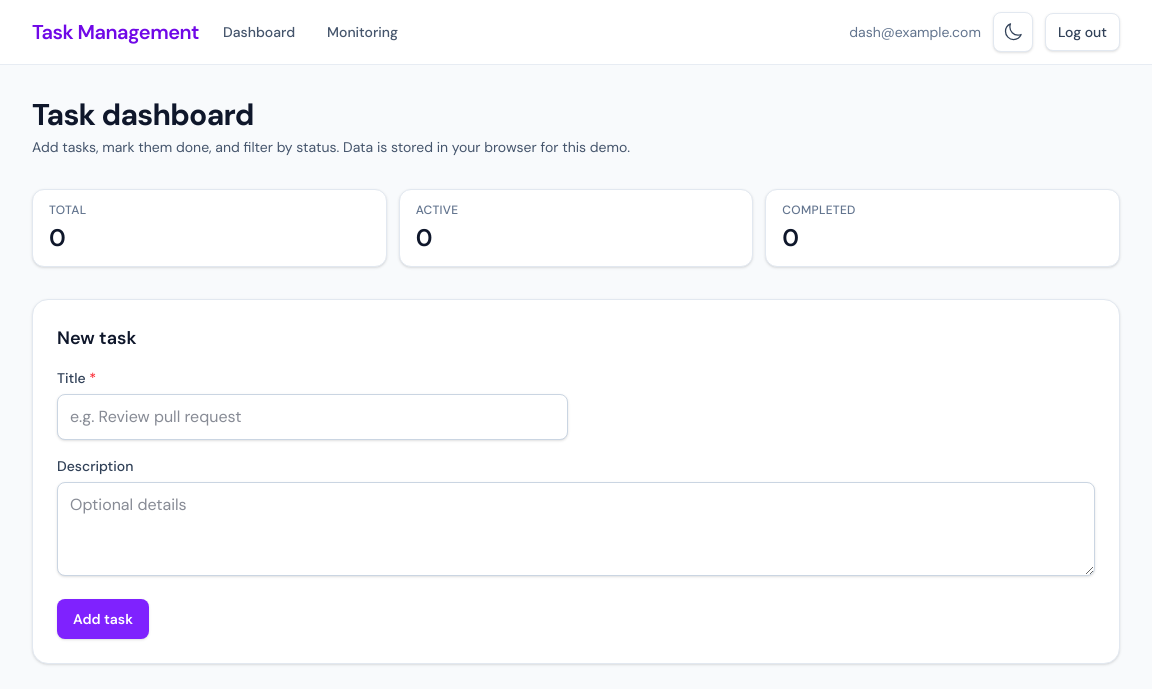
Test: DashboardPage (local storage) › toggles completion and uses filter chips
Type "Open task" into the field with test id "task-title-input" at point(312, 417), box [57,394,568,440]
Click the button with test id "task-add-submit" at point(103, 619), box [57,599,149,639]
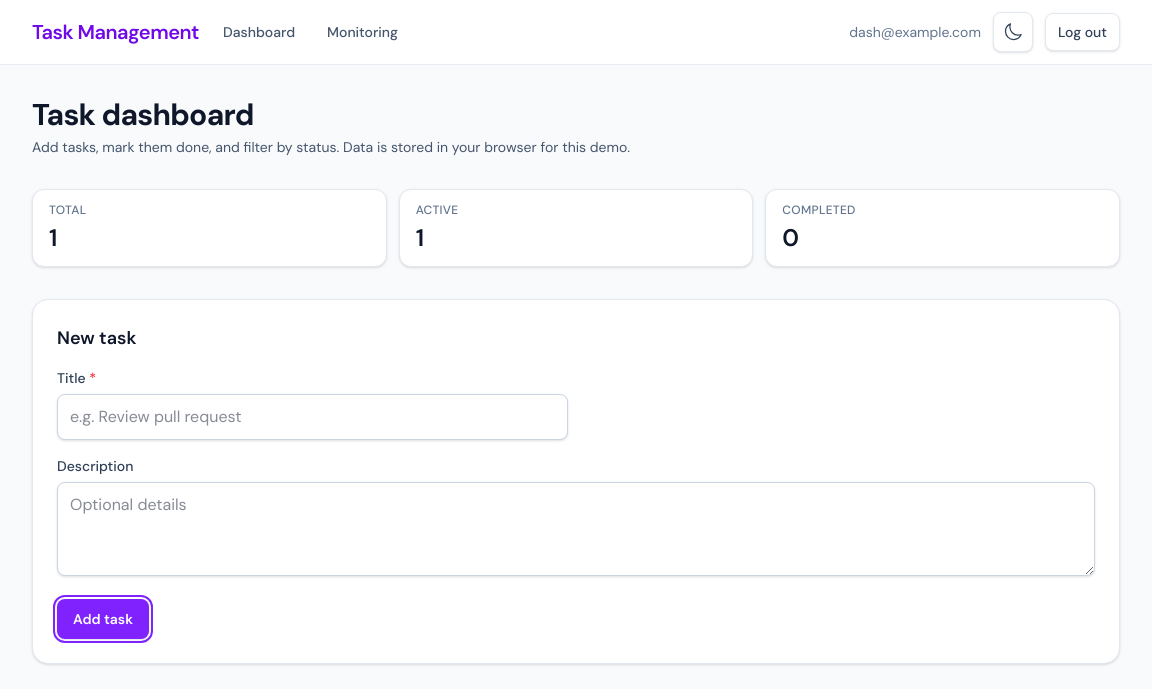
Type "Done task" into the field with test id "task-title-input" at point(312, 417), box [57,394,568,440]
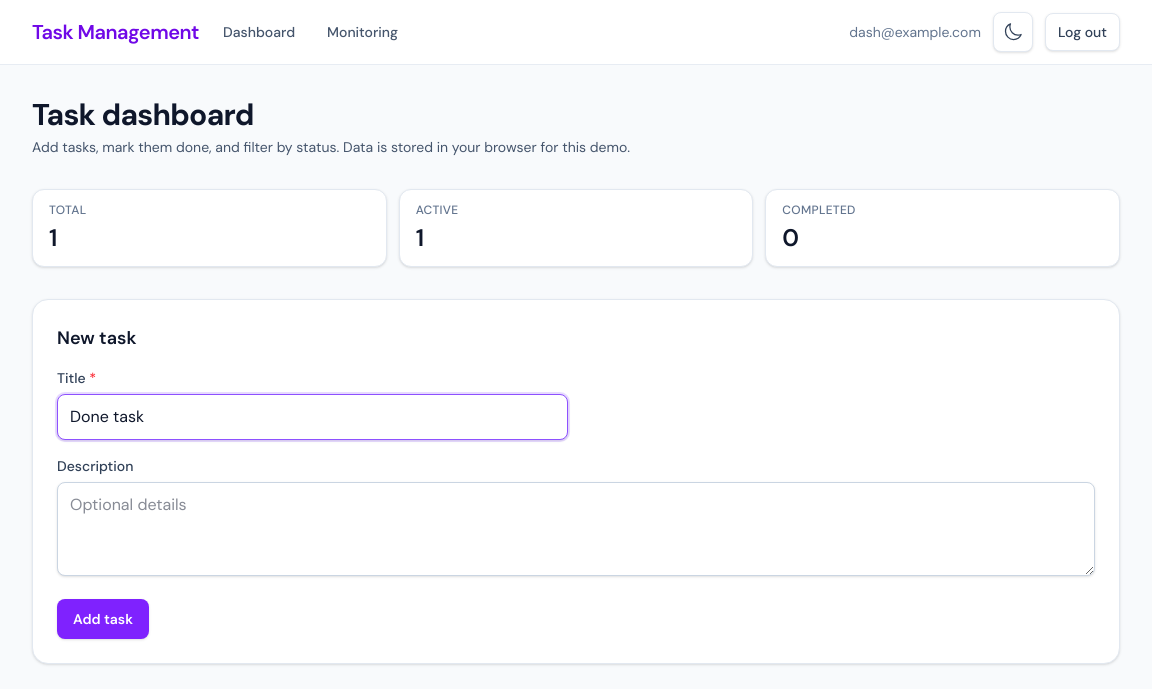
Click the button with test id "task-add-submit" at point(103, 619), box [57,599,149,639]
(page scrolled)
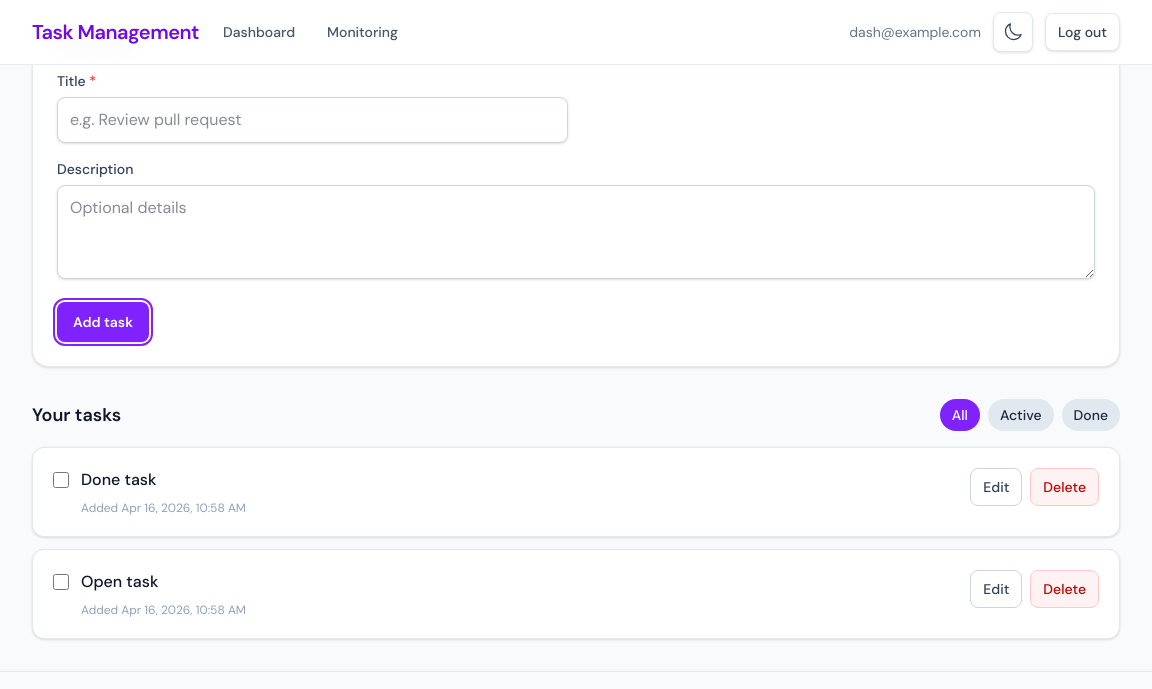
Click the checkbox with test id "task-complete-checkbox" next to "Done task" at point(61, 480), box [53,472,69,488]
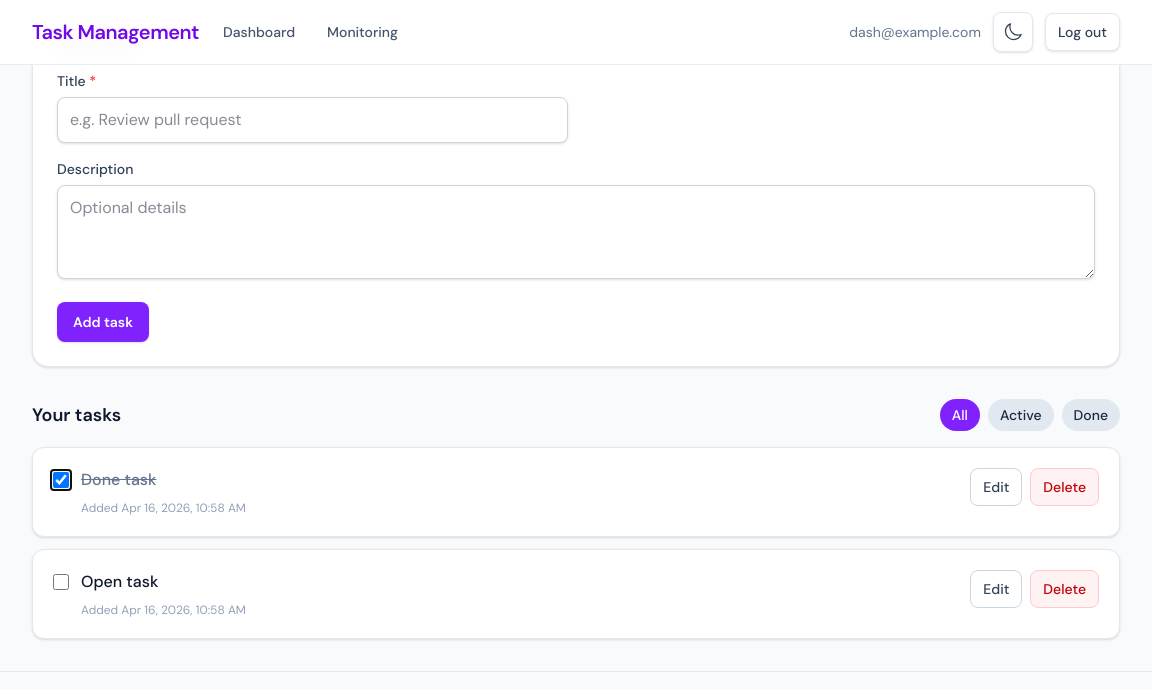
Click the button with test id "filter-active" at point(1021, 415), box [988,399,1054,431]
(page scrolled)
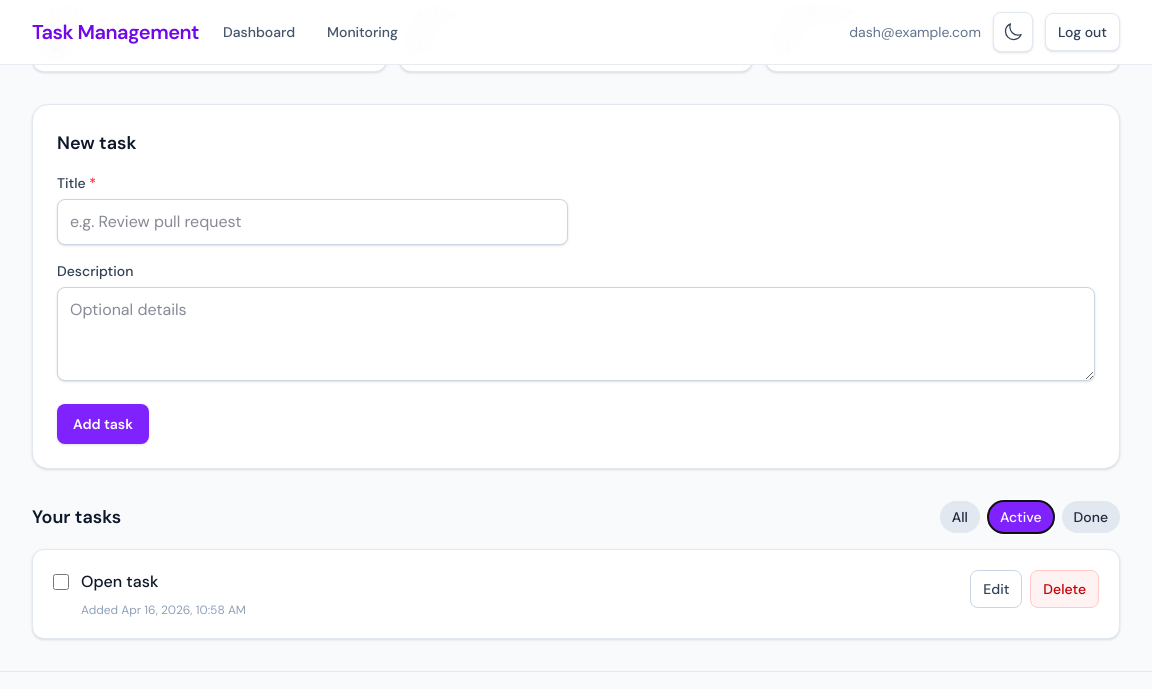
Result: the element "Open task" is shown at [32,549,1120,639]
Result: the heading "Done task" is gone
Click the button with test id "filter-completed" at point(1091, 517), box [1062,501,1120,533]
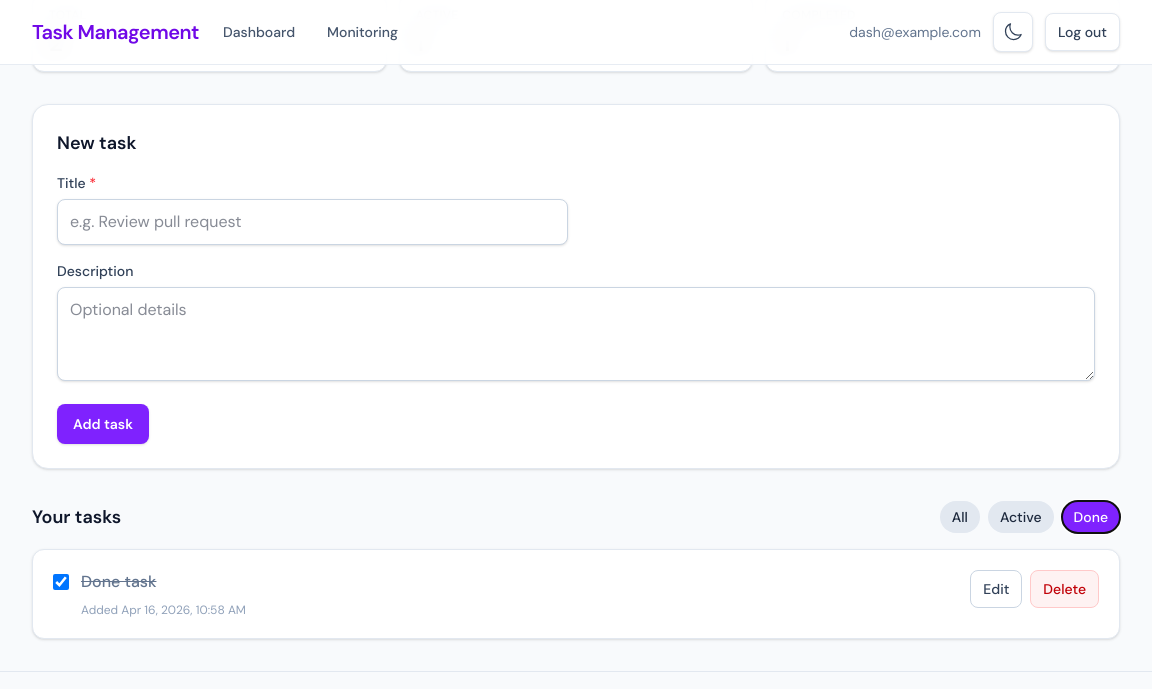
Result: the element "Done task" is shown at [32,549,1120,639]
Result: the heading "Open task" is gone
